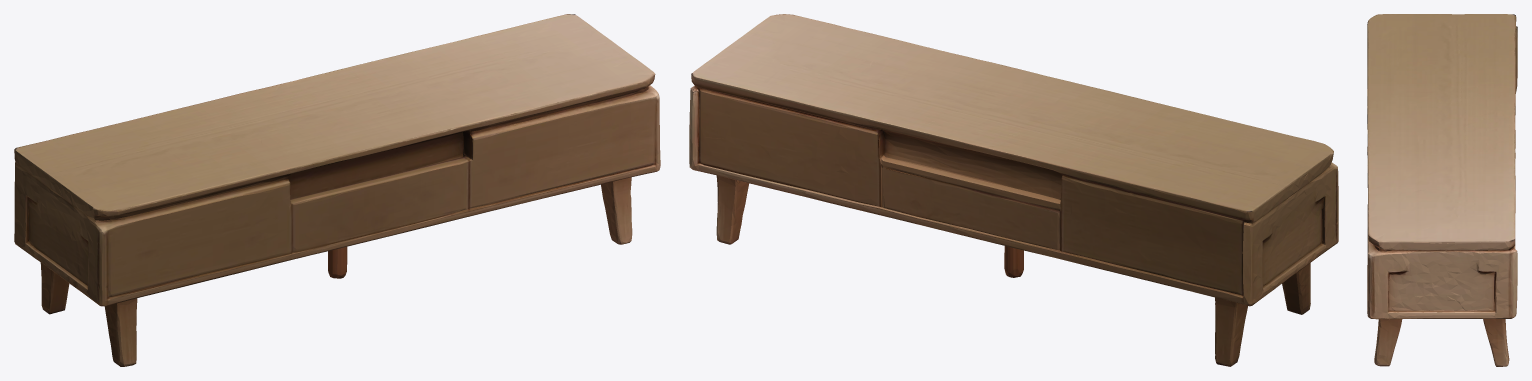
3 renders of one model, left to right at view 1: azimuth 30°, elevation 25°; view 2: azimuth 150°, elevation 25°; view 3: azimuth 270°, elevation 25°, orthographic. The views are drawn at different scales.
Visible parts, largest first — view 1: geometry_0; view 2: geometry_0; view 3: geometry_0.
Part boxes in pixels (x1,y1,x2,y2): geometry_0: [14, 14, 660, 366]; geometry_0: [689, 14, 1338, 366]; geometry_0: [1367, 14, 1517, 366].
Bounding box in the file's own units: 1 × 0.279 × 0.2803.
1 material, 1 textured.
